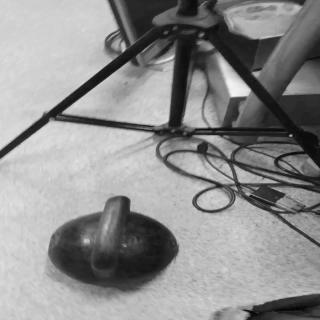kettlebell: (47, 194, 184, 289)
